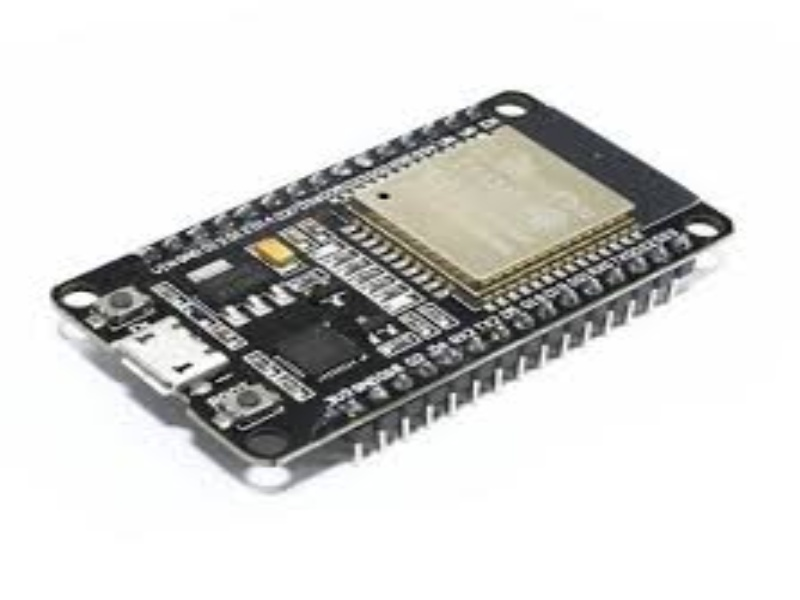esp32: (40, 62, 754, 485)
